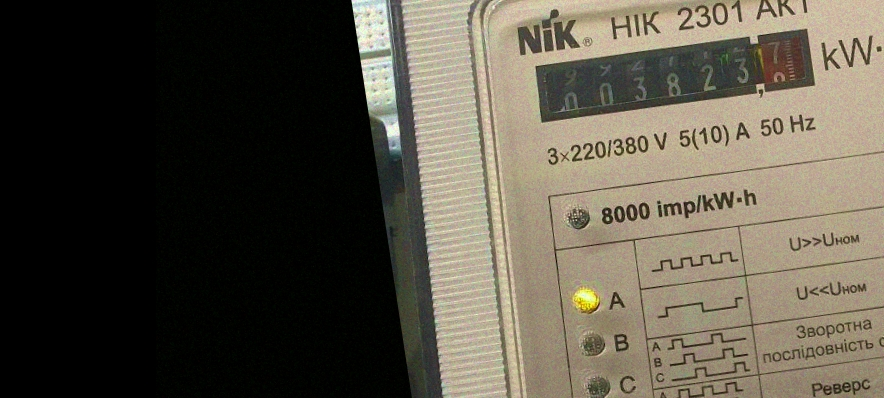0: (593, 77, 617, 107), (560, 86, 582, 112)
2: (697, 59, 720, 94)
3: (731, 53, 754, 86), (629, 71, 651, 102)
7: (766, 38, 786, 68)
8: (663, 68, 684, 98)
9: (559, 65, 580, 87)
screen: (526, 19, 821, 132)
